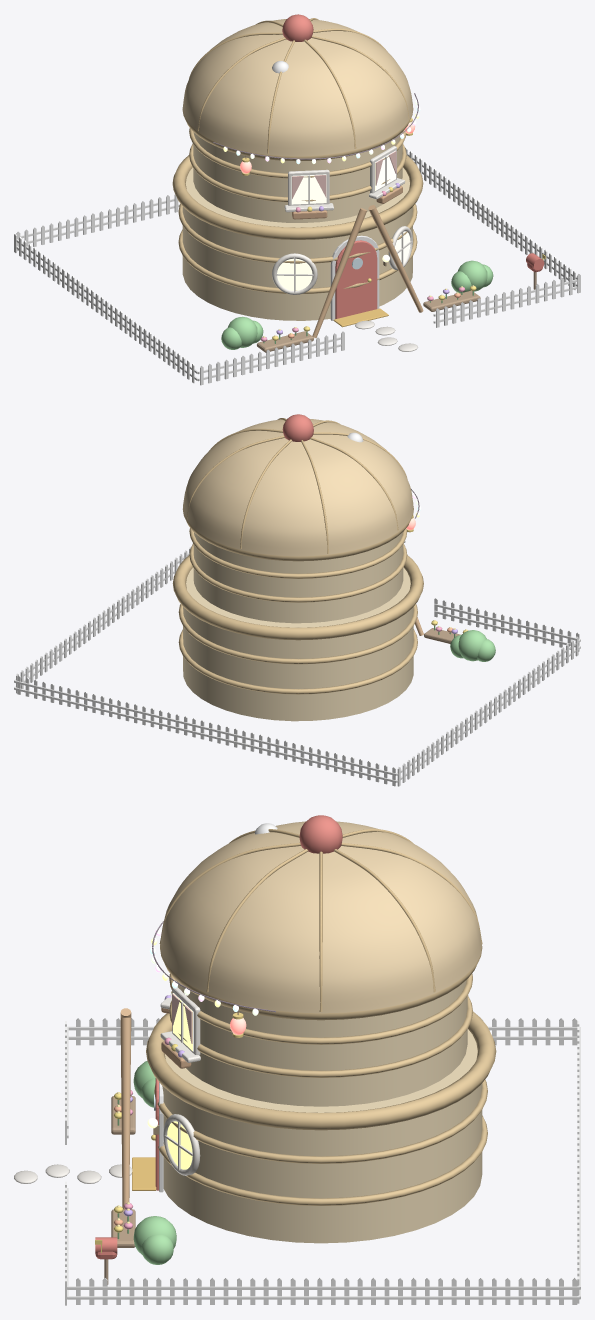
The model's file is building_dumpling_L09.glb.
3 views of the same model, one above another, from view 1: azimuth 30°, elevation 25°; view 2: azimuth 150°, elevation 25°; view 3: azimuth 270°, elevation 25° (orthographic). The views are drawn at different scales.
Parts seen in each view (by area): view 1: Body, dumpling_L9; view 2: Body, dumpling_L9; view 3: Body, dumpling_L9.
Boxes of the visible parts, left/top/right/bottom form: Body: left=172, top=14, right=423, bottom=338; dumpling_L9: left=14, top=61, right=580, bottom=385; Body: left=172, top=414, right=423, bottom=721; dumpling_L9: left=14, top=432, right=580, bottom=786; Body: left=120, top=815, right=496, bottom=1243; dumpling_L9: left=14, top=823, right=580, bottom=1305.
Size of the model in its own units: 25.35 by 16.38 by 23.24.
